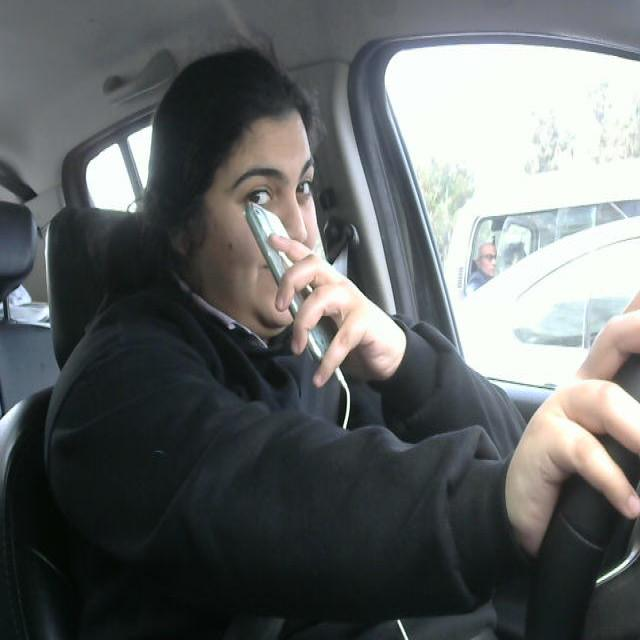mobile use: (239, 188, 349, 378)
